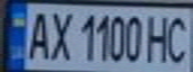0: (124, 11, 145, 63), (109, 11, 127, 62)
1: (75, 10, 96, 62), (93, 11, 112, 62)
A: (21, 7, 54, 61)
C: (163, 11, 193, 64)
H: (145, 11, 175, 63)
X: (45, 7, 75, 62)
